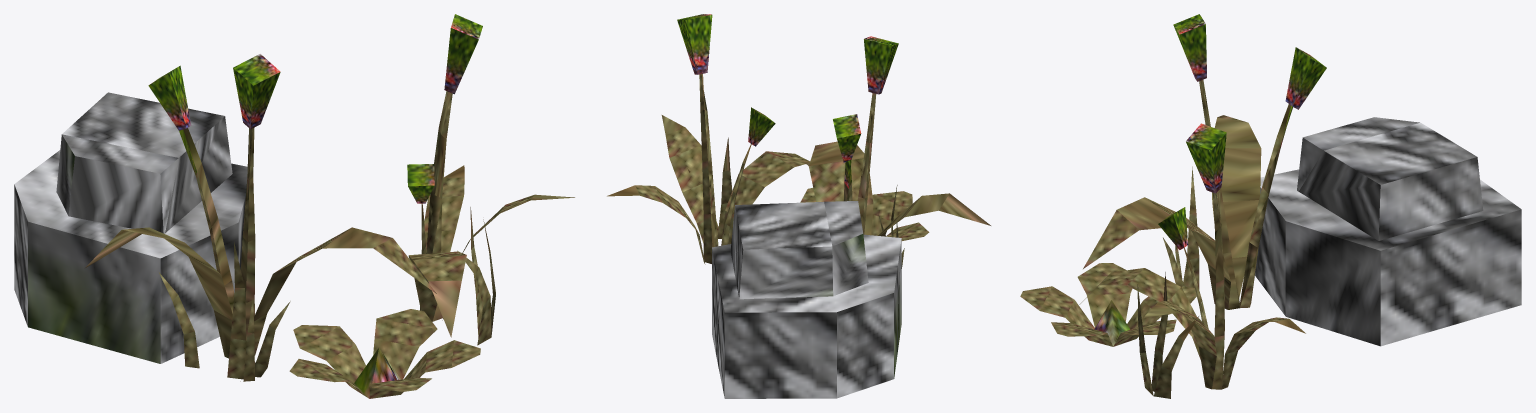
File: RockFlower1.fbx
3 views of the same model, side by side, from view 1: azimuth 30°, elevation 25°; view 2: azimuth 150°, elevation 25°; view 3: azimuth 270°, elevation 25° (orthographic). The views are drawn at different scales.
Parts seen in each view (by area): view 1: RockFlower1; view 2: RockFlower1; view 3: RockFlower1.
Part boxes in pixels (<box>): RockFlower1: <box>14,14,574,398</box>; RockFlower1: <box>607,14,990,398</box>; RockFlower1: <box>1020,14,1521,398</box>.
Size of the model in its own units: 22.04 by 14.65 by 23.54.
